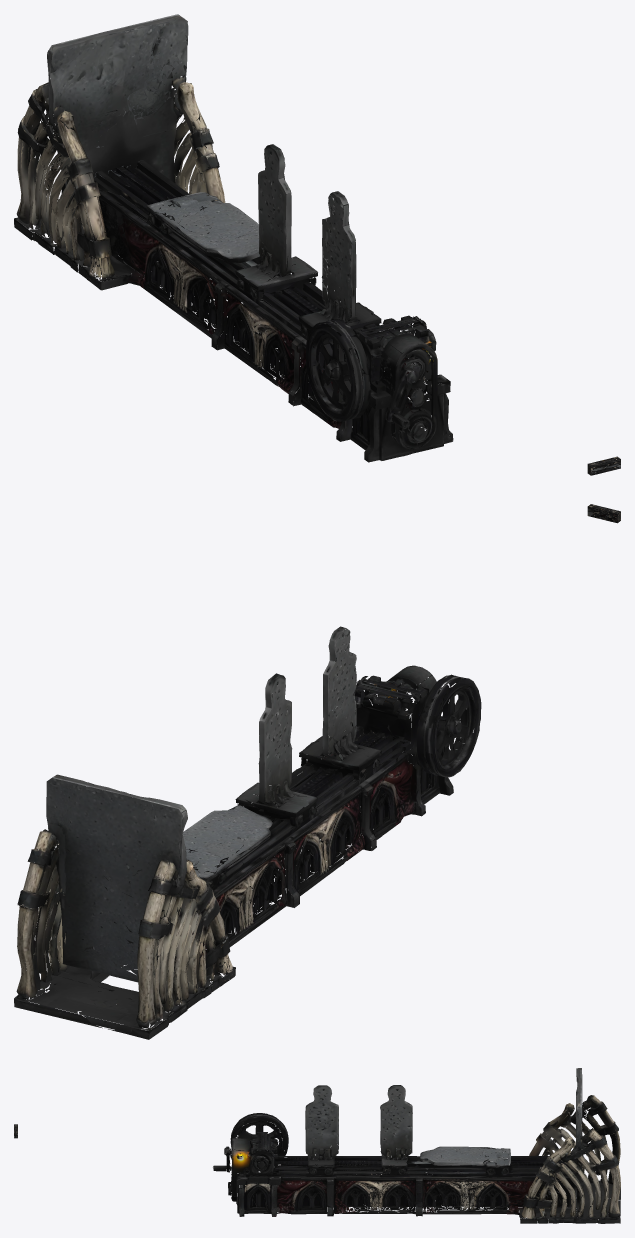
Rendered from vesper_grown_moving_target_rail.glb.
The picture shows the model from 3 angles, top to bottom: view 1: azimuth 30°, elevation 25°; view 2: azimuth 150°, elevation 25°; view 3: azimuth 270°, elevation 25°; orthographic projection. The views are drawn at different scales.
Parts seen in each view (by area): view 1: node_0; view 2: node_0; view 3: node_0.
Boxes of the visible parts, x1,y1,x2,y2 form: node_0: [14, 14, 453, 462]; node_0: [14, 626, 481, 1039]; node_0: [213, 1068, 620, 1223].
Bounding box in the file's own units: 0.2596 × 0.3624 × 1.66.
Materials: 1 (1 with a texture image).
